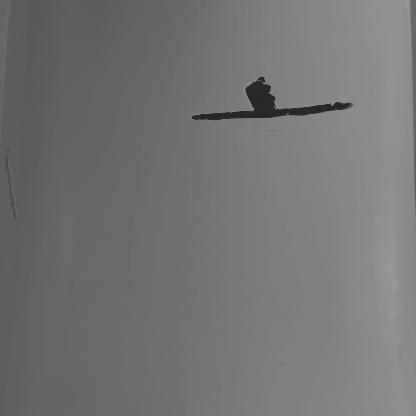fengxi: (193, 100, 355, 120)
kongdong: (244, 75, 279, 111)
